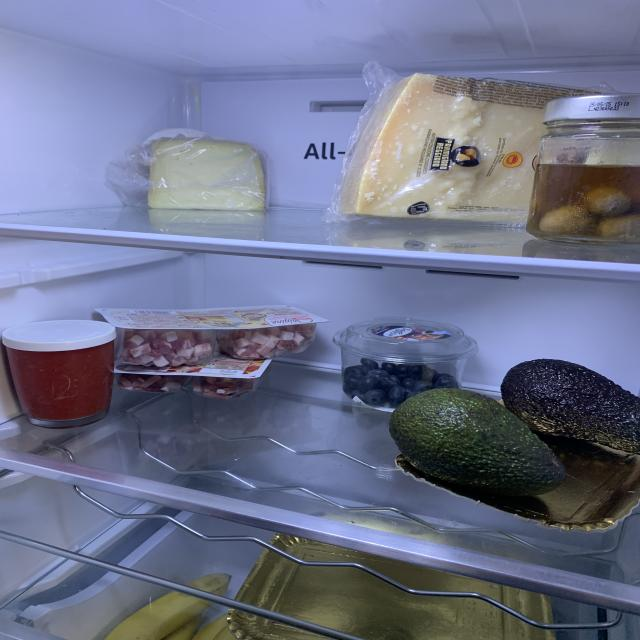avocado: (390, 389, 564, 494), (501, 359, 640, 453)
bacon: (117, 329, 211, 366), (219, 324, 314, 359), (118, 374, 185, 394), (195, 379, 255, 399)
banana: (89, 573, 231, 640)
blueberries: (344, 358, 456, 407)
mid_seasoned_cheese: (146, 140, 266, 211)
olives: (524, 164, 640, 242)
parmesan_cheese: (336, 74, 611, 227)
tomato_sauce: (2, 343, 117, 416)
